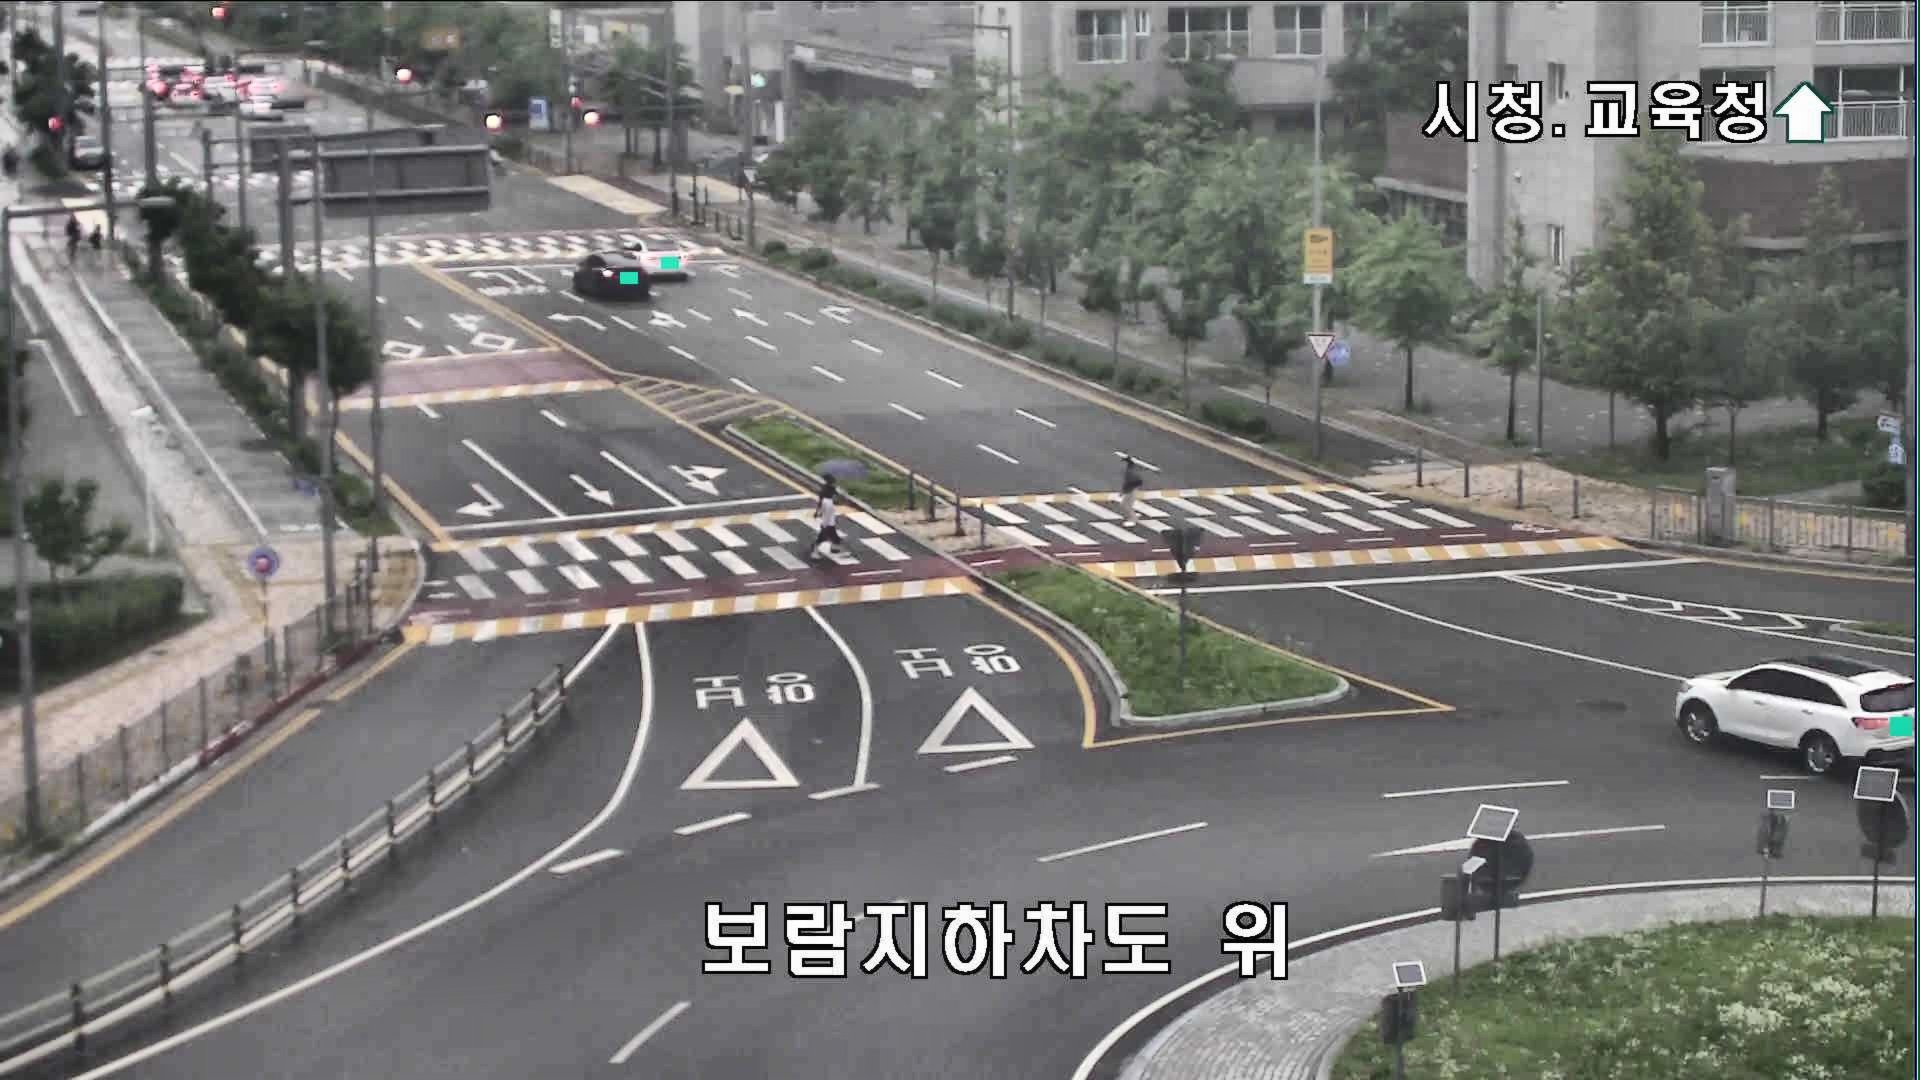crosswalk: (812, 491, 839, 564), (1118, 452, 1145, 524)
um_crosswalk: (812, 448, 865, 524)
